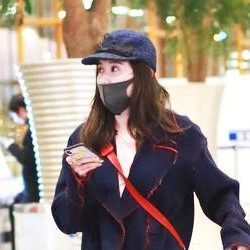mask: (96, 74, 138, 119)
